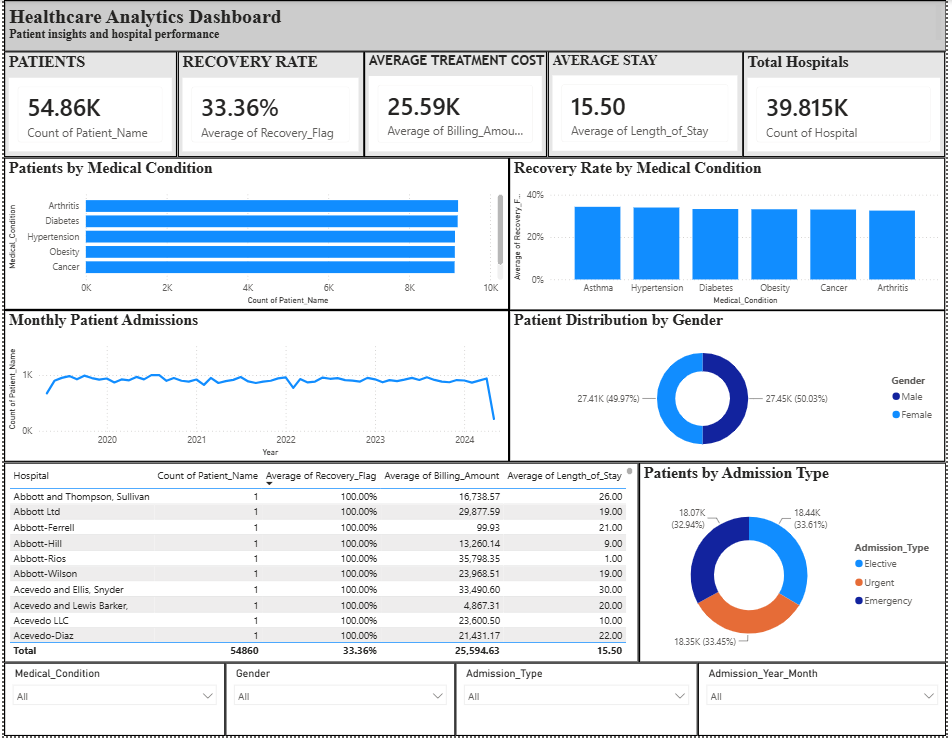

This screenshot's page, from the dashboard's own definition file:
{"tool":"powerbi","page":{"name":"Healthcare Dashboard","canvas":[1280,1000],"ordinal":0},"visuals":[{"type":"textbox","box":[0,0,1280.9,70.3],"z":0},{"type":"cardVisual","title":"PATIENTS","fields":{"Data":["CountNonNull(healthcare_cleaned.Patient_Name)"]},"box":[0,70.3,235.4,143.7],"z":1000},{"type":"cardVisual","title":"RECOVERY RATE","fields":{"Data":["Avg(healthcare_cleaned.Recovery_Flag)"]},"box":[235.4,70.3,253.7,143.7],"z":2000},{"type":"cardVisual","title":"AVERAGE TREATMENT COST","fields":{"Data":["Avg(healthcare_cleaned.Billing_Amount)"]},"box":[489.1,70.3,249.2,143.7],"z":3000},{"type":"cardVisual","title":"AVERAGE STAY","fields":{"Data":["Avg(healthcare_cleaned.Length_of_Stay)"]},"box":[738.3,70.3,266,143.7],"z":4000},{"type":"cardVisual","title":"Total Hospitals","fields":{"Data":["Count(healthcare_cleaned.Hospital)"]},"box":[1004.3,70.3,275.1,143.7],"z":5000},{"type":"clusteredBarChart","title":"Patients by Medical Condition","fields":{"Category":["healthcare_cleaned.Medical_Condition"],"Y":["CountNonNull(healthcare_cleaned.Patient_Name)"]},"box":[0,214,686.1,207.2],"z":6000},{"type":"clusteredColumnChart","title":"Recovery Rate by Medical Condition","fields":{"Category":["healthcare_cleaned.Medical_Condition"],"Y":["Avg(healthcare_cleaned.Recovery_Flag)"]},"box":[686.3,214,593.1,207.9],"z":7000},{"type":"lineChart","title":"Monthly Patient Admissions","fields":{"Category":["healthcare_cleaned.Admission_Year_Month.Variation.Date Hierarchy.Year","healthcare_cleaned.Admission_Year_Month.Variation.Date Hierarchy.Quarter","healthcare_cleaned.Admission_Year_Month.Variation.Date Hierarchy.Month","healthcare_cleaned.Admission_Year_Month.Variation.Date Hierarchy.Day"],"Y":["CountNonNull(healthcare_cleaned.Patient_Name)"]},"box":[0,421.9,686.3,206.4],"z":8000},{"type":"donutChart","title":"Patient Distribution by Gender","fields":{"Category":["healthcare_cleaned.Gender"],"Y":["CountNonNull(healthcare_cleaned.Patient_Name)"]},"box":[686.3,421.9,593.1,206.4],"z":9000},{"type":"donutChart","title":"Patients by Admission Type","fields":{"Category":["healthcare_cleaned.Admission_Type"],"Y":["CountNonNull(healthcare_cleaned.Patient_Name)"]},"box":[862.1,628.2,417.3,272.1],"z":10000},{"type":"tableEx","fields":{"Values":["healthcare_cleaned.Hospital","healthcare_cleaned.Patient_Name","Avg(healthcare_cleaned.Recovery_Flag)","Avg(healthcare_cleaned.Billing_Amount)","Avg(healthcare_cleaned.Length_of_Stay)"]},"box":[0,628.2,862.1,272.1],"z":11000},{"type":"slicer","fields":{"Values":["healthcare_cleaned.Medical_Condition"]},"box":[0,900.1,300.6,100.2],"z":11001},{"type":"slicer","fields":{"Values":["healthcare_cleaned.Gender"]},"box":[300.6,900.1,312.5,100.2],"z":11002},{"type":"slicer","fields":{"Values":["healthcare_cleaned.Admission_Type"]},"box":[613.1,900.1,329.5,100.2],"z":11003},{"type":"slicer","fields":{"Values":["healthcare_cleaned.Admission_Year_Month"]},"box":[942.6,900.1,338,100.2],"z":11004}]}

Visuals, with their boxes in screenshot pixels (x1, y1, x2, y2), scaled from the page's 1280x1000 canvas onto the 952x740 screenshot:
textbox: detection(0, 0, 951, 52)
"PATIENTS" cardVisual: detection(0, 52, 175, 158)
"RECOVERY RATE" cardVisual: detection(175, 52, 364, 158)
"AVERAGE TREATMENT COST" cardVisual: detection(364, 52, 549, 158)
"AVERAGE STAY" cardVisual: detection(549, 52, 747, 158)
"Total Hospitals" cardVisual: detection(747, 52, 951, 158)
"Patients by Medical Condition" clusteredBarChart: detection(0, 158, 510, 312)
"Recovery Rate by Medical Condition" clusteredColumnChart: detection(510, 158, 951, 312)
"Monthly Patient Admissions" lineChart: detection(0, 312, 510, 465)
"Patient Distribution by Gender" donutChart: detection(510, 312, 951, 465)
"Patients by Admission Type" donutChart: detection(641, 465, 951, 666)
tableEx - healthcare_cleaned.Hospital x healthcare_cleaned.Patient_Name: detection(0, 465, 641, 666)
slicer - healthcare_cleaned.Medical_Condition: detection(0, 666, 224, 739)
slicer - healthcare_cleaned.Gender: detection(224, 666, 456, 739)
slicer - healthcare_cleaned.Admission_Type: detection(456, 666, 701, 739)
slicer - healthcare_cleaned.Admission_Year_Month: detection(701, 666, 951, 739)
